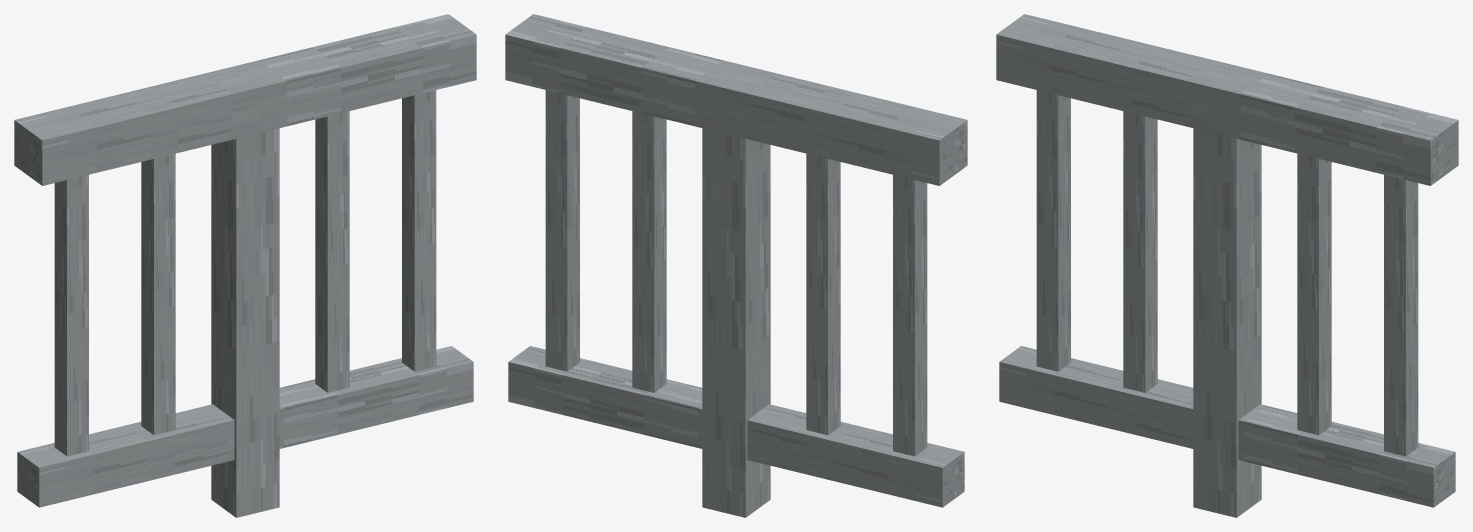
The model's file is level.obj.
3 views of the same model, side by side, from view 1: azimuth 30°, elevation 25°; view 2: azimuth 150°, elevation 25°; view 3: azimuth 330°, elevation 25° (orthographic).
Parts seen in each view (by area): view 1: railing_picket_galvanized_level; view 2: railing_picket_galvanized_level; view 3: railing_picket_galvanized_level.
Boxes of the visible parts, <box> form: railing_picket_galvanized_level: <box>14,14,476,517</box>; railing_picket_galvanized_level: <box>505,14,967,517</box>; railing_picket_galvanized_level: <box>996,14,1458,517</box>.
Size of the model in its own units: 1 by 0.9375 by 0.1125.
